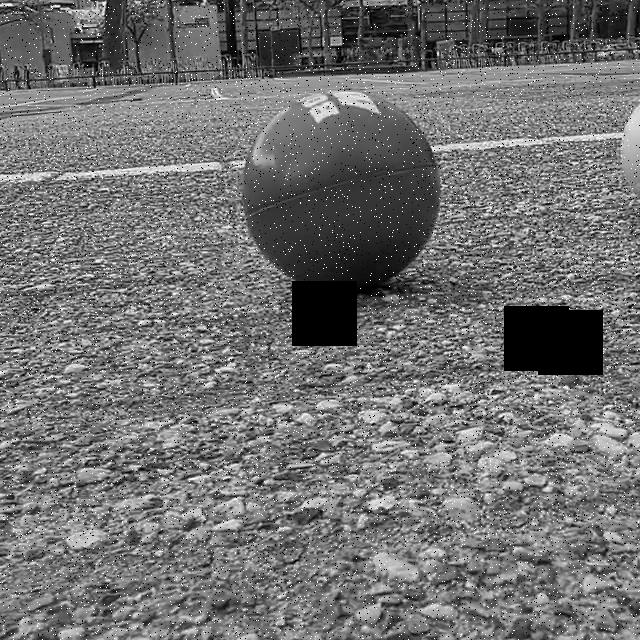ball: (238, 88, 444, 299)
